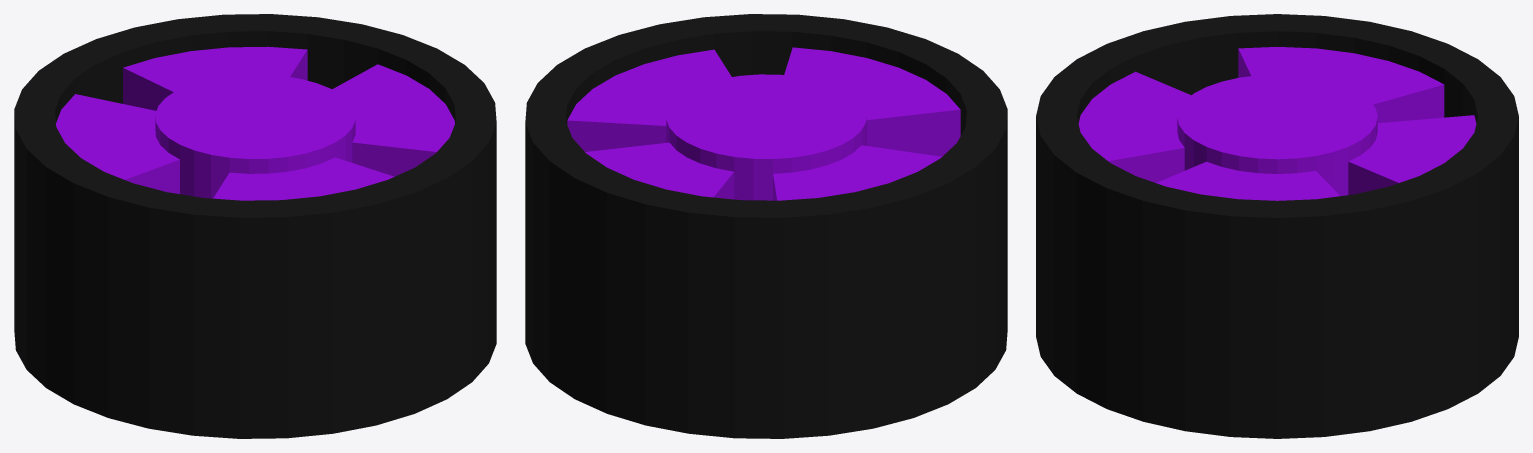
The model's file is pneufront1.fbx.
The picture shows the model from 3 angles, left to right: view 1: azimuth 30°, elevation 25°; view 2: azimuth 150°, elevation 25°; view 3: azimuth 270°, elevation 25°; orthographic projection.
Parts seen in each view (by area): view 1: pneu frontal 1; view 2: pneu frontal 1; view 3: pneu frontal 1.
Part boxes in pixels (<box>): pneu frontal 1: <box>14,14,496,438</box>; pneu frontal 1: <box>525,14,1007,438</box>; pneu frontal 1: <box>1036,14,1518,438</box>.
Bounding box in the file's own units: 106 × 53.64 × 106.
